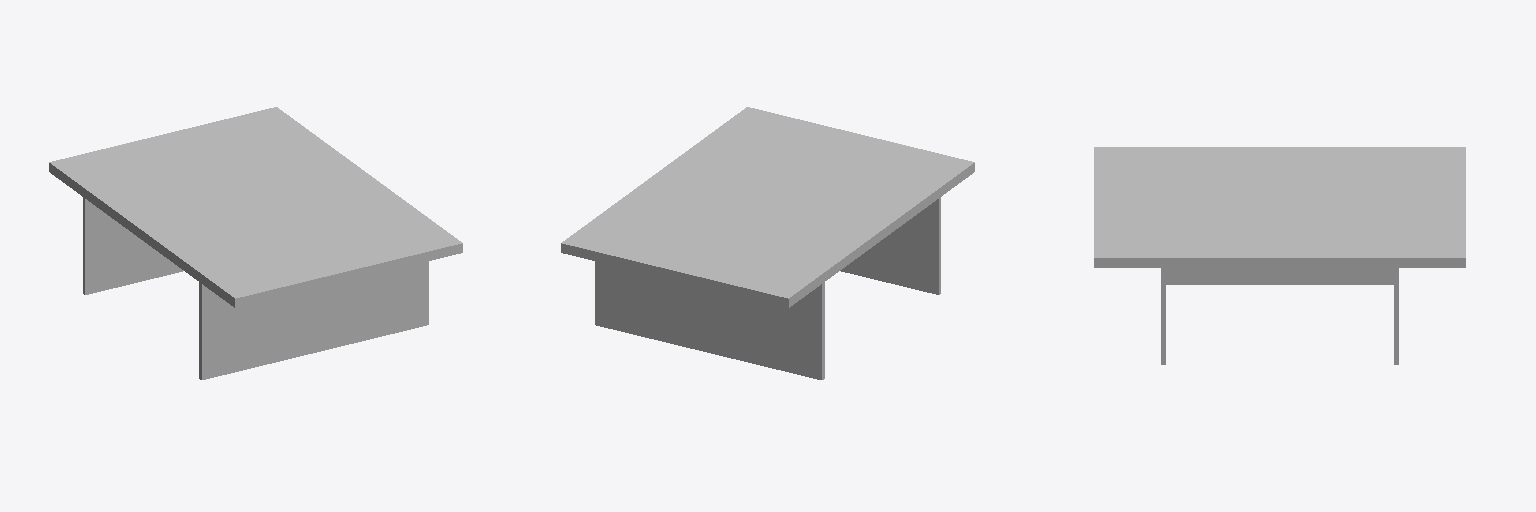
File: insidetable.obj
3 renders of one model, left to right at view 1: azimuth 30°, elevation 25°; view 2: azimuth 150°, elevation 25°; view 3: azimuth 270°, elevation 25°, orthographic.
Parts seen in each view (by area): view 1: Plane.001; view 2: Plane.001; view 3: Plane.001.
Boxes of the visible parts, <box> form: Plane.001: <box>49,107,462,379</box>; Plane.001: <box>561,107,974,379</box>; Plane.001: <box>1094,147,1465,364</box>.
Size of the model in its own units: 1128 by 504 by 1600.